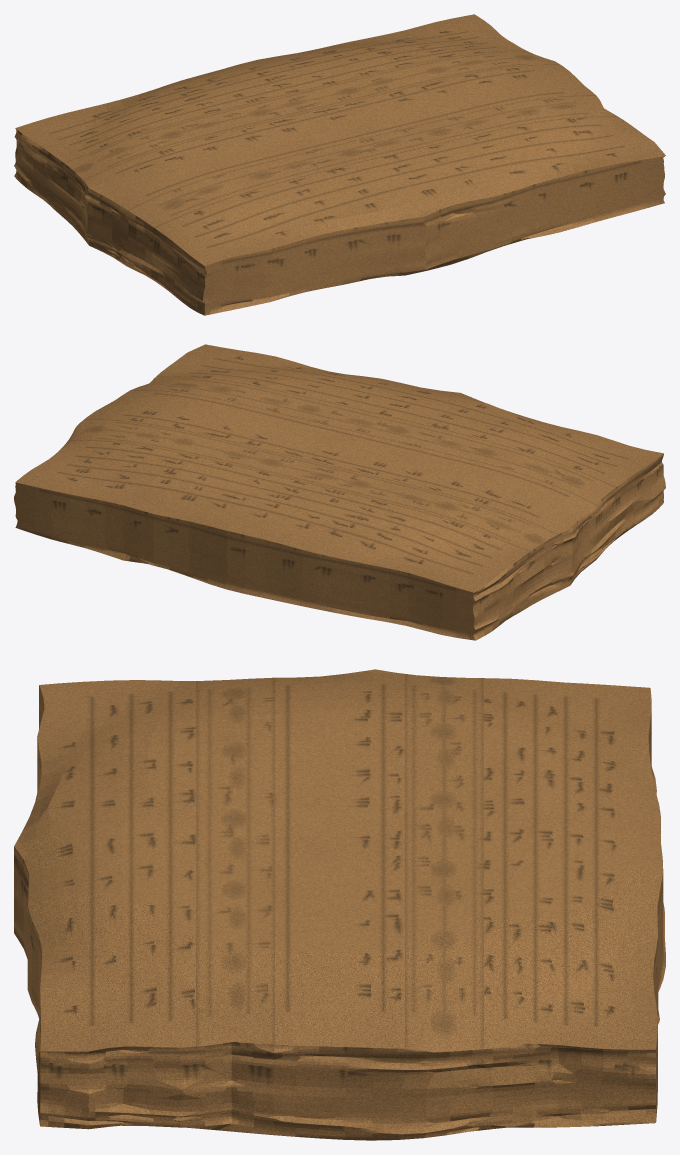
Rendered from sumerian_clay_tablet.glb.
3 views of the same model, one above another, from view 1: azimuth 30°, elevation 25°; view 2: azimuth 150°, elevation 25°; view 3: azimuth 270°, elevation 25° (orthographic). The views are drawn at different scales.
Parts seen in each view (by area): view 1: SumerianClayTablet; view 2: SumerianClayTablet; view 3: SumerianClayTablet.
Boxes of the visible parts, <box> form: SumerianClayTablet: <box>14,14,665,315</box>; SumerianClayTablet: <box>14,344,665,640</box>; SumerianClayTablet: <box>14,669,665,1140</box>.
Bounding box in the file's own units: 0.09 × 0.016 × 0.065.
1 material, 1 textured.
